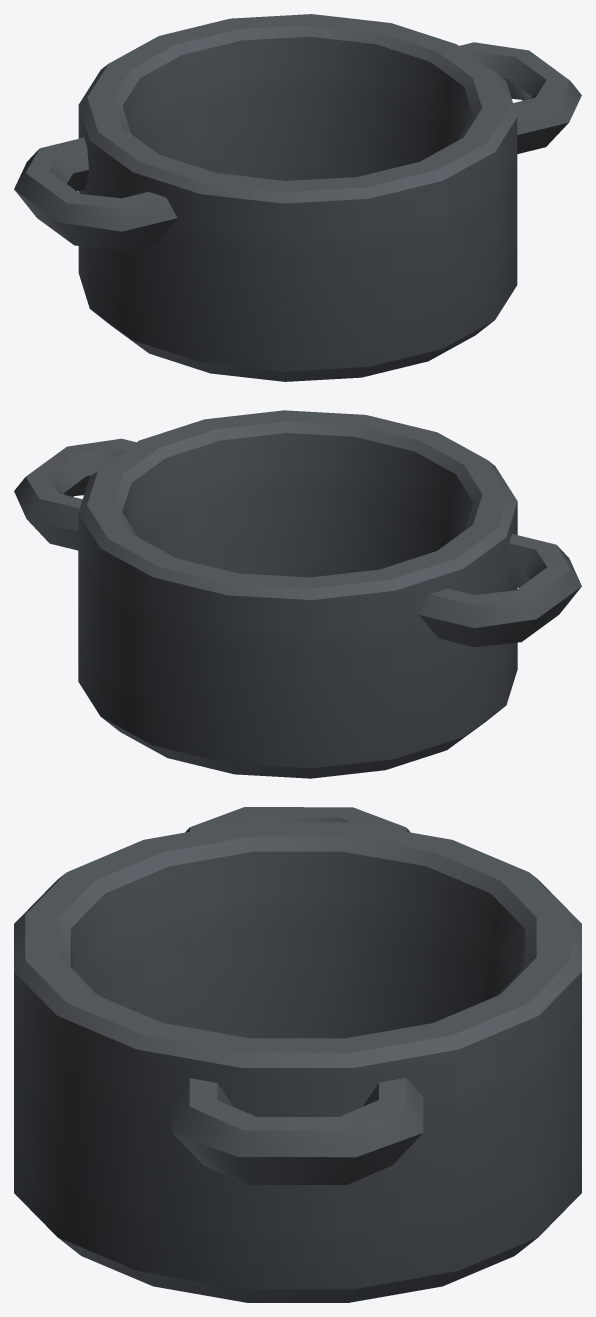
The model's file is kkr.pot_b.glb.
3 views of the same model, one above another, from view 1: azimuth 30°, elevation 25°; view 2: azimuth 150°, elevation 25°; view 3: azimuth 270°, elevation 25° (orthographic). The views are drawn at different scales.
Visible parts, largest first — view 1: pot_B; view 2: pot_B; view 3: pot_B.
Part boxes in pixels (x1=…): pot_B: x1=14, y1=14, x2=581, y2=381; pot_B: x1=14, y1=410, x2=581, y2=778; pot_B: x1=14, y1=807, x2=581, y2=1302.
Bounding box in the file's own units: 0.3859 × 0.1378 × 0.2757.
1 material, 1 textured.
